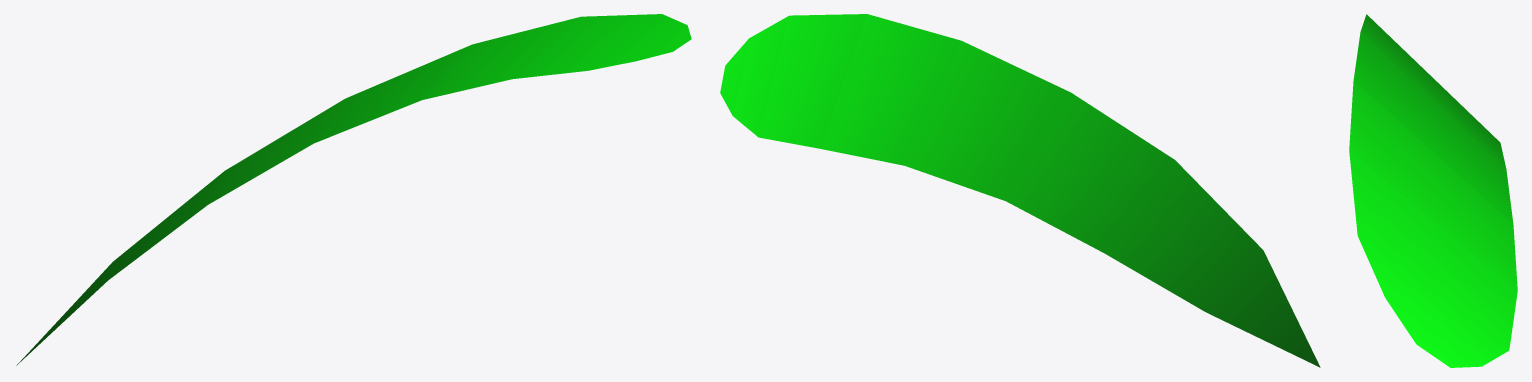
The model's file is portal-004.gltf.
3 renders of one model, left to right at view 1: azimuth 30°, elevation 25°; view 2: azimuth 150°, elevation 25°; view 3: azimuth 270°, elevation 25°, orthographic. The views are drawn at different scales.
Parts seen in each view (by area): view 1: Efecto_Luz-f.004; view 2: Efecto_Luz-f.004; view 3: Efecto_Luz-f.004.
Boxes of the visible parts, <box> form: Efecto_Luz-f.004: <box>16,14,691,365</box>; Efecto_Luz-f.004: <box>720,14,1320,367</box>; Efecto_Luz-f.004: <box>1349,14,1517,367</box>.
Bounding box in the file's own units: 7.91 × 2.73 × 1.23.
1 material, 1 textured.
